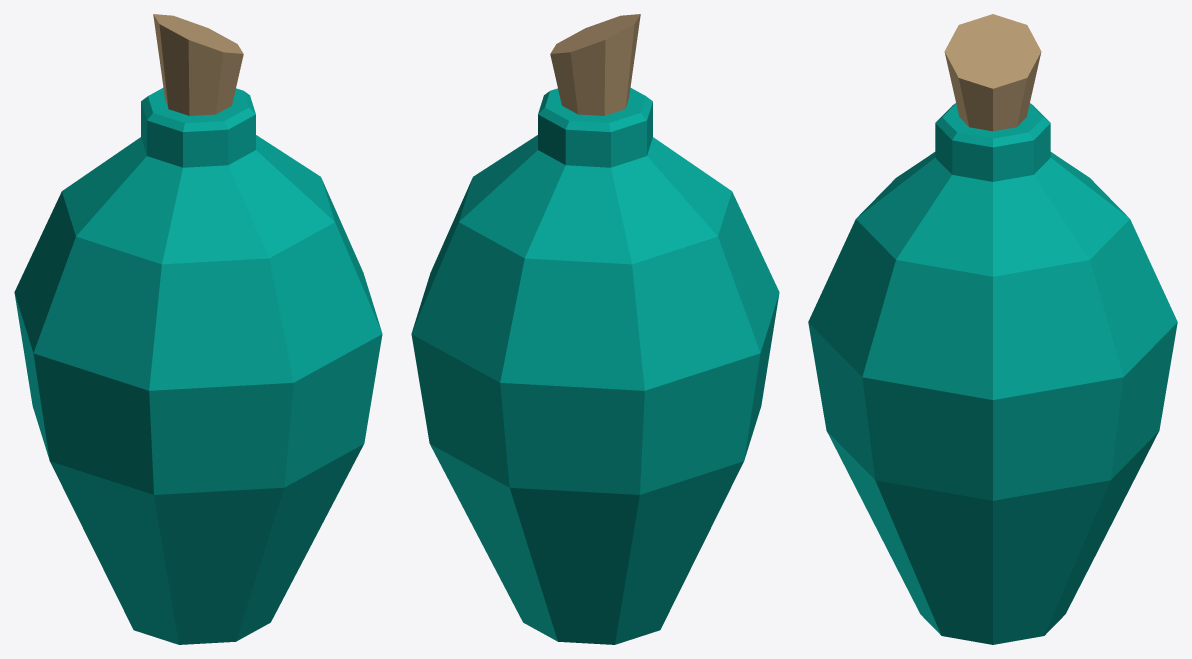
Rendered from Bottle_03.glb.
3 views of the same model, side by side, from view 1: azimuth 30°, elevation 25°; view 2: azimuth 150°, elevation 25°; view 3: azimuth 270°, elevation 25° (orthographic). The views are drawn at different scales.
Visible parts, largest first — view 1: Bottle_03; view 2: Bottle_03; view 3: Bottle_03.
Boxes of the visible parts, bbox=[...] form: Bottle_03: bbox=[14, 14, 382, 644]; Bottle_03: bbox=[411, 14, 779, 644]; Bottle_03: bbox=[808, 14, 1177, 644].
Size of what is drawn, in the model's own units: 0.388 by 0.6739 by 0.388.
1 material, 1 textured.
